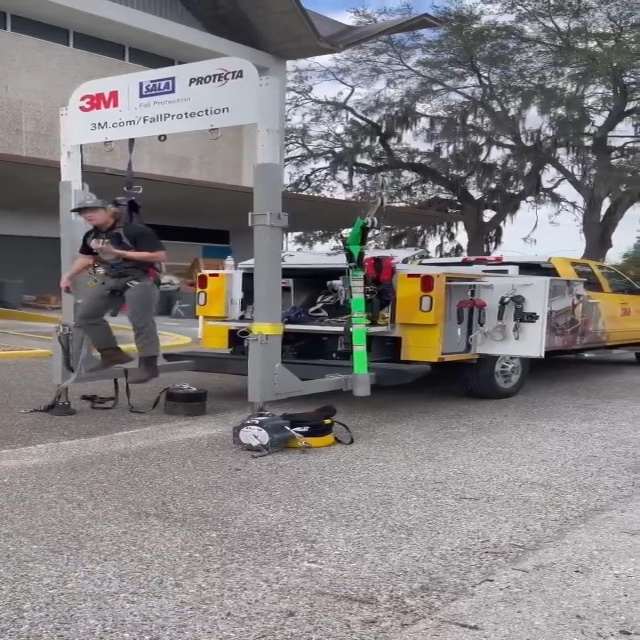Arnes_seguridad: (60, 195, 177, 296)
